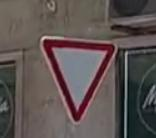cedencia de passagem: (38, 31, 120, 123)
